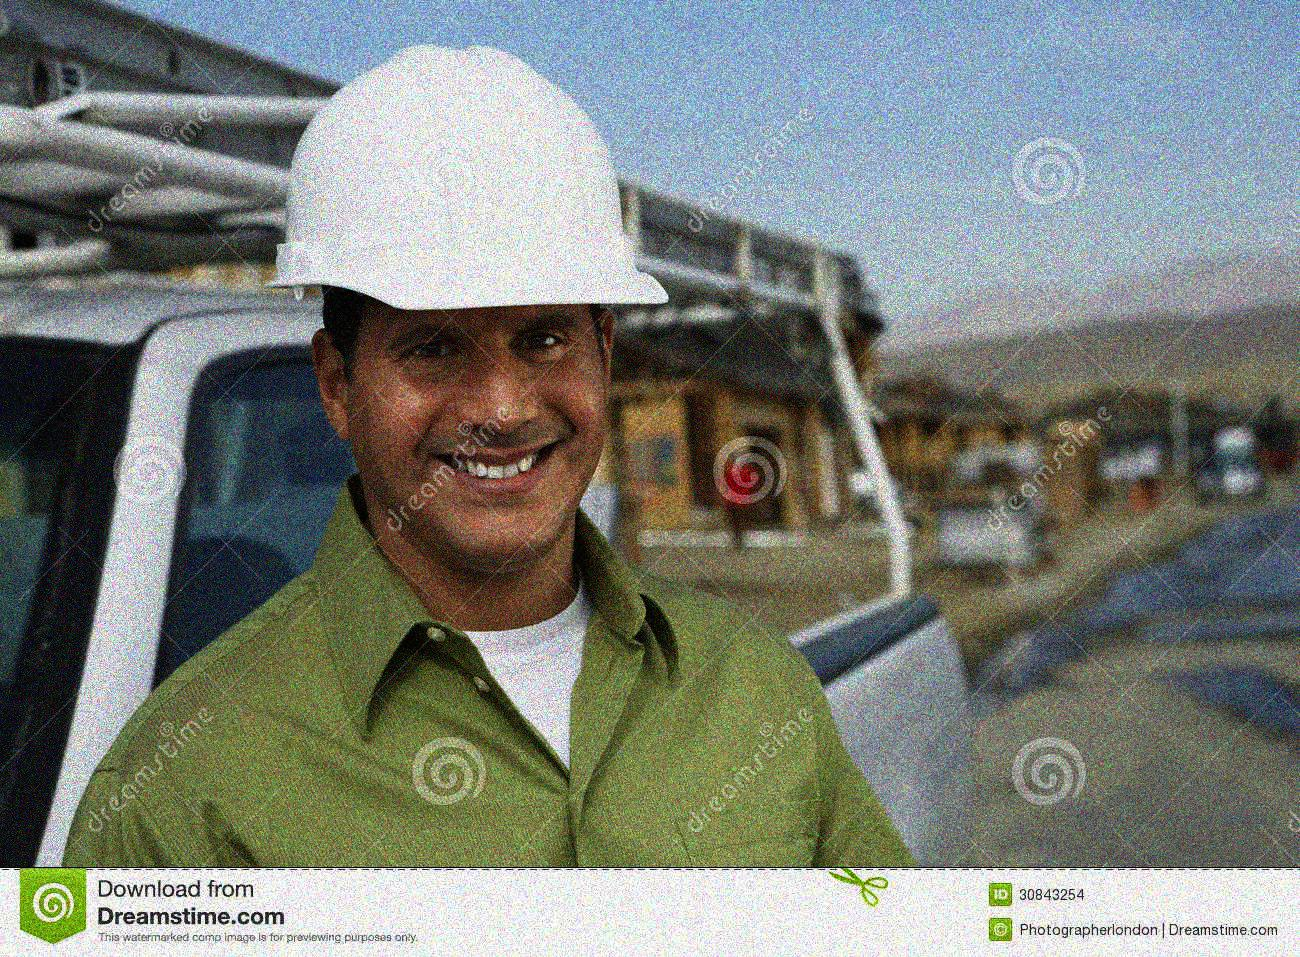helmet: (270, 34, 668, 575)
